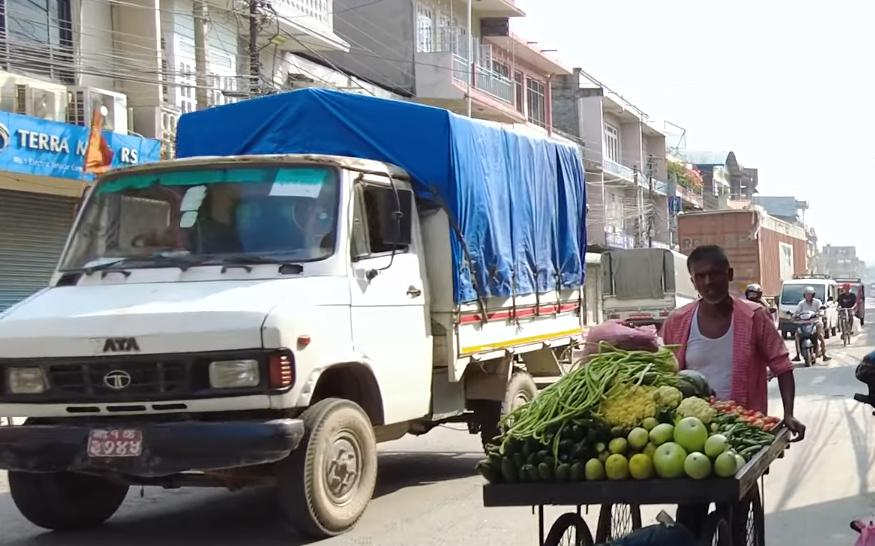mini_truck: (0, 83, 589, 520)
scooter: (790, 288, 833, 373)
